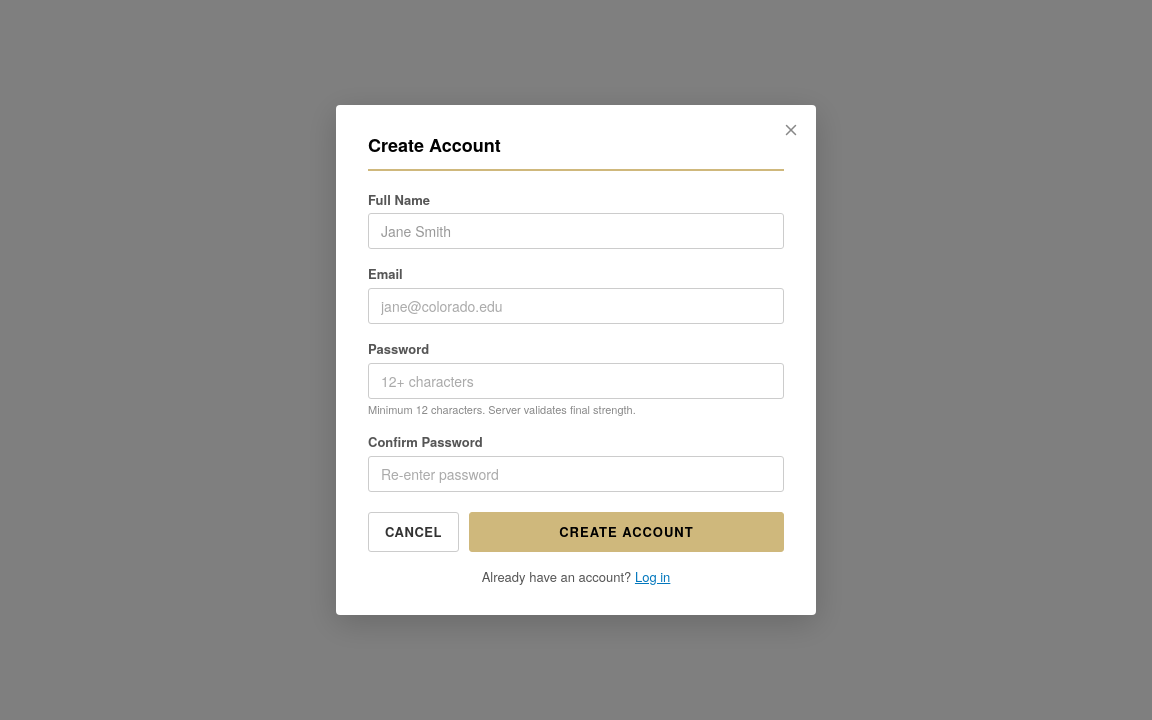
Test case: RegisterModal › shows confirm-password error after blur on mismatch
Type "a-valid-pw-123" into the password field with id "reg-password" at [576, 380], box [368,362,784,398]
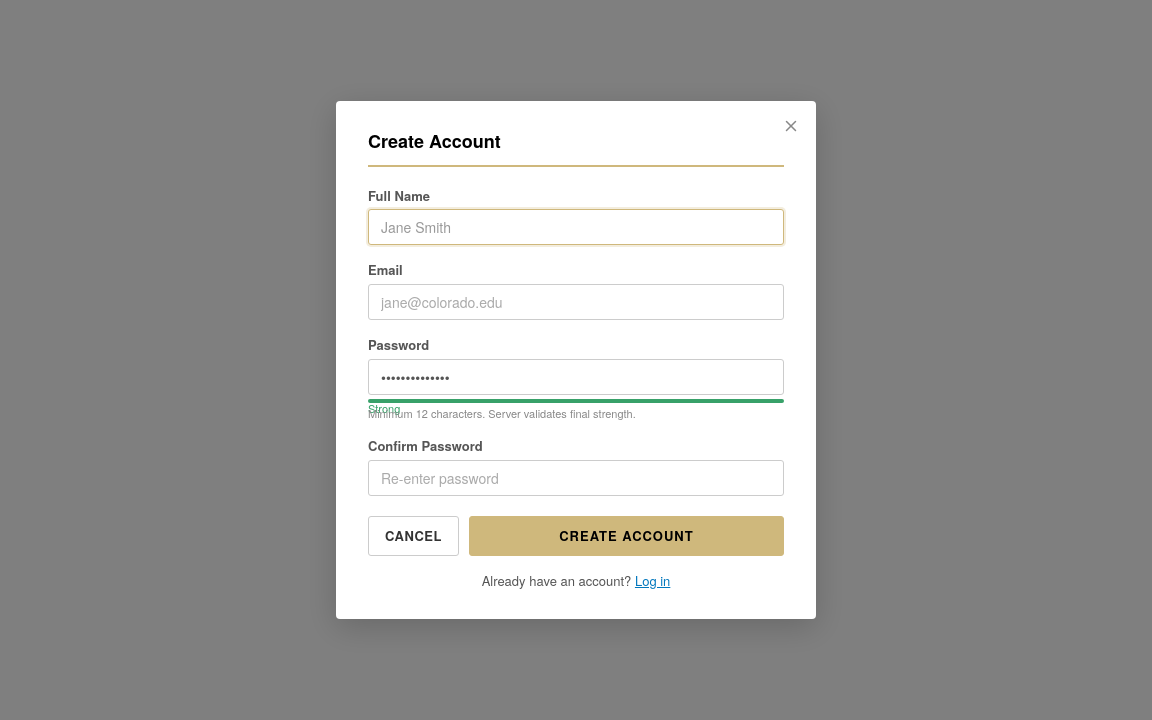
Type "different-pw-12" into the password field with id "reg-confirm-password" at [576, 478], box [368,460,784,496]
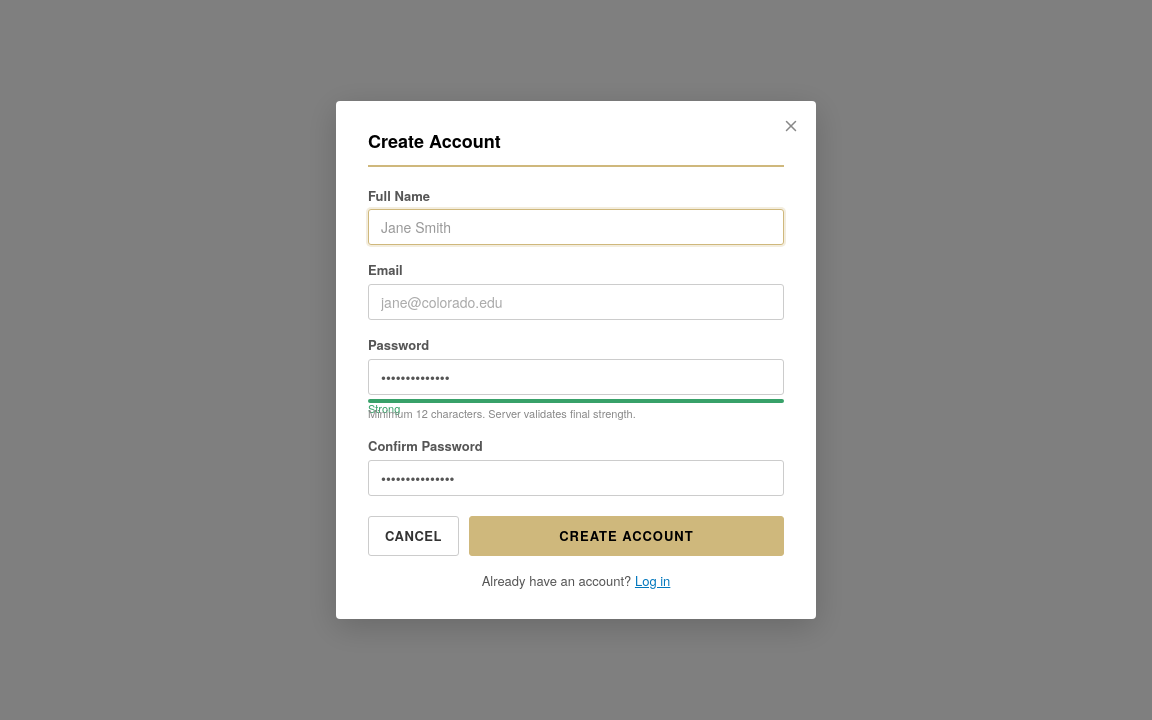
Leave the password field with id "reg-confirm-password", box [368,460,784,496]
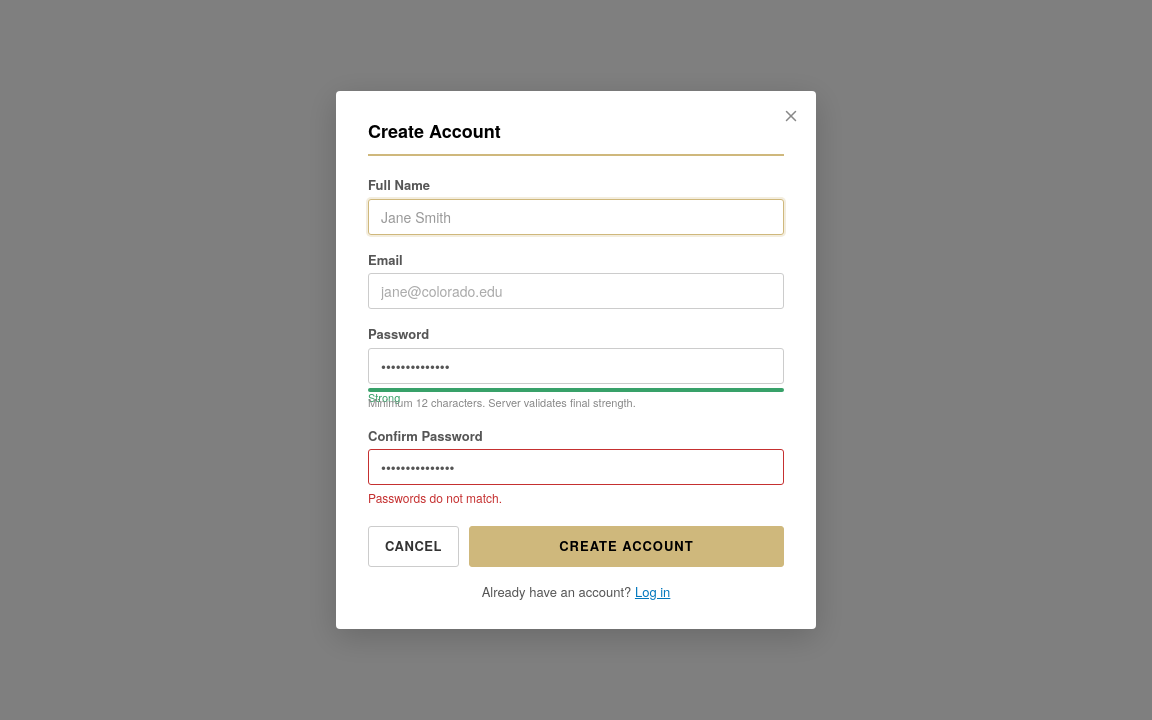
Expected: the text "Passwords do not match." is shown, [368,489,502,506]
